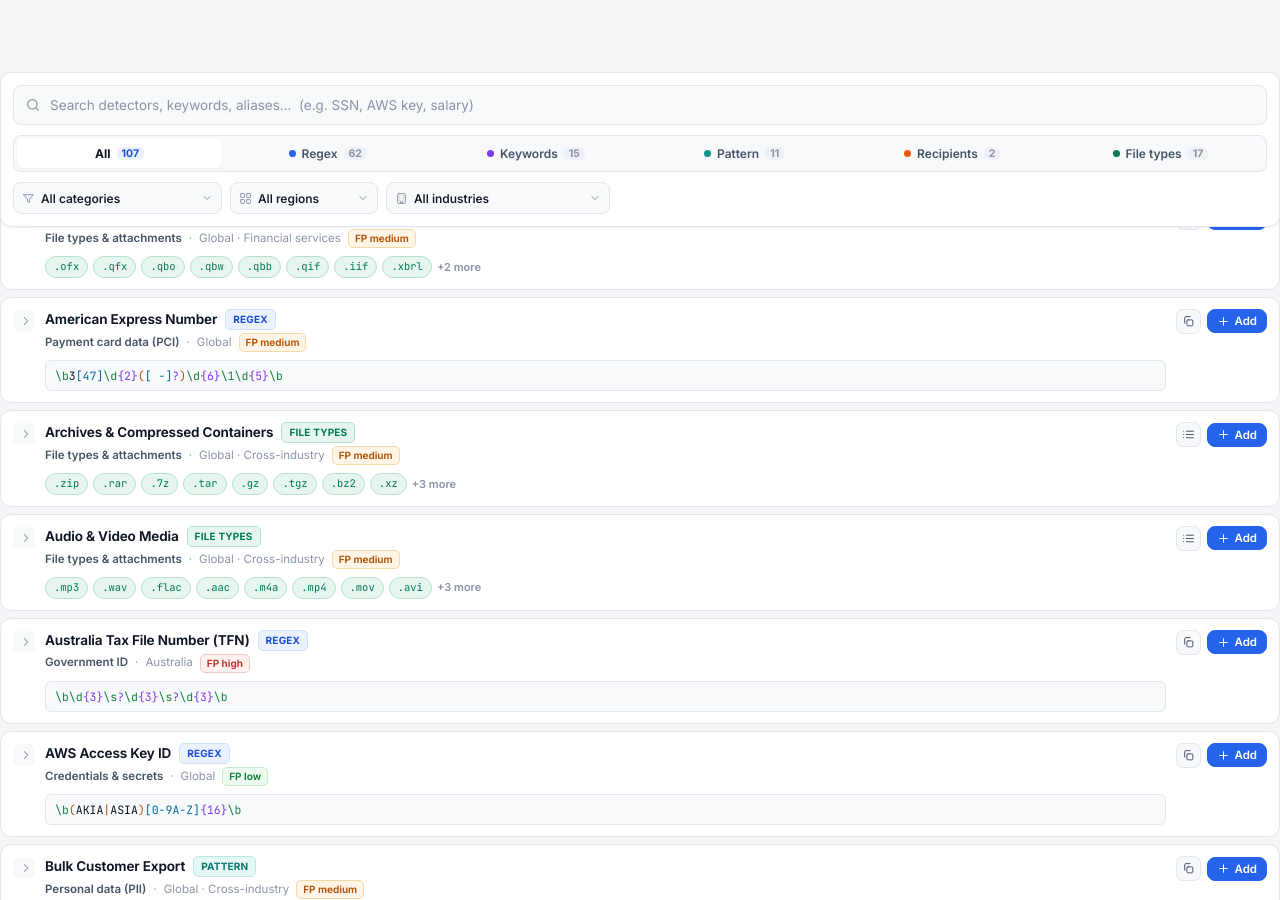
Test: LibraryPanel filtering › renders the empty state when nothing matches
Replace the text in the field with class "search" with "zzzznomatch" at {"x": 640, "y": 105}, box [13,85,1267,125]
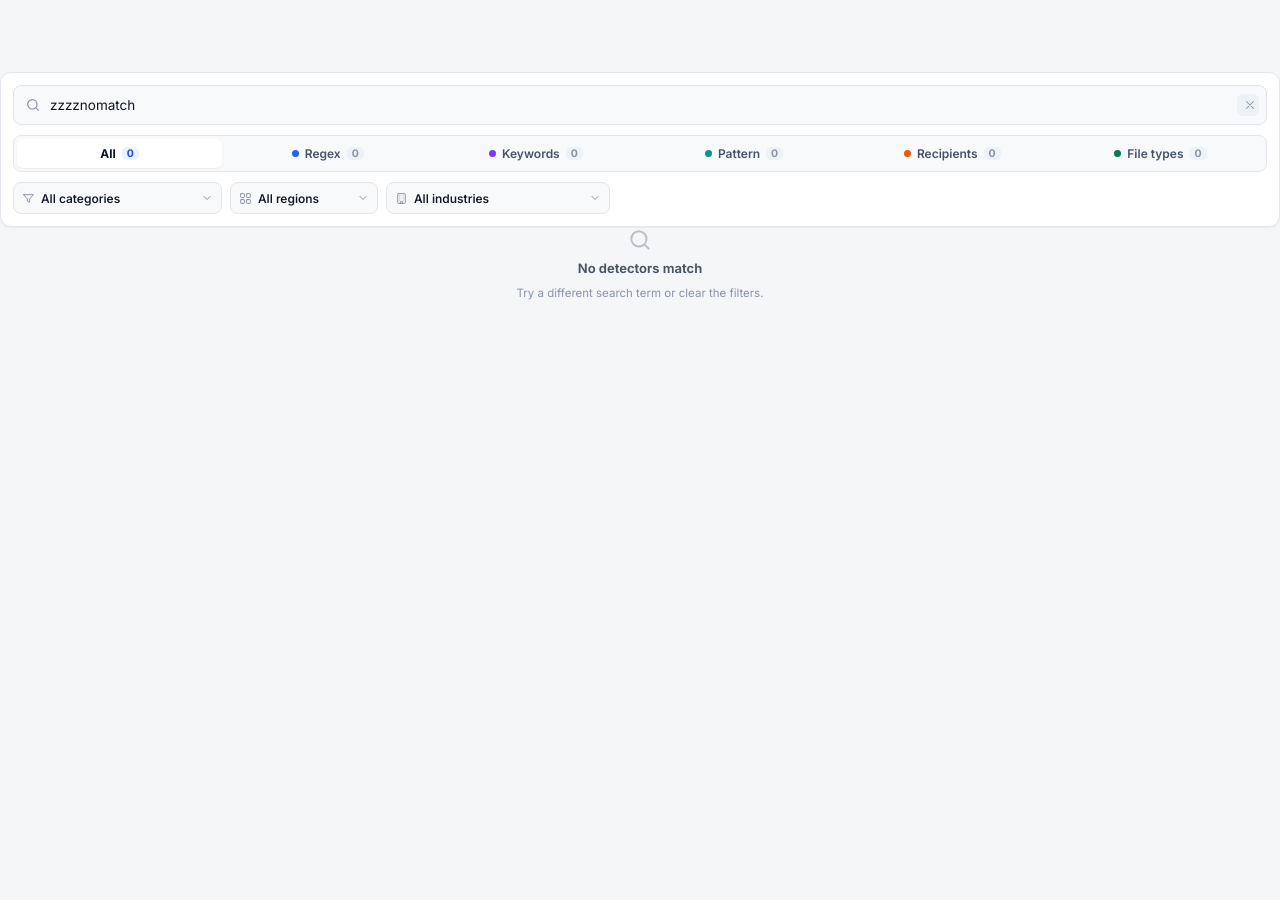
Result: the element with class "lib-empty" is shown at [516,227,764,300]
Result: the text "No detectors match" is shown at [578,259,702,278]
